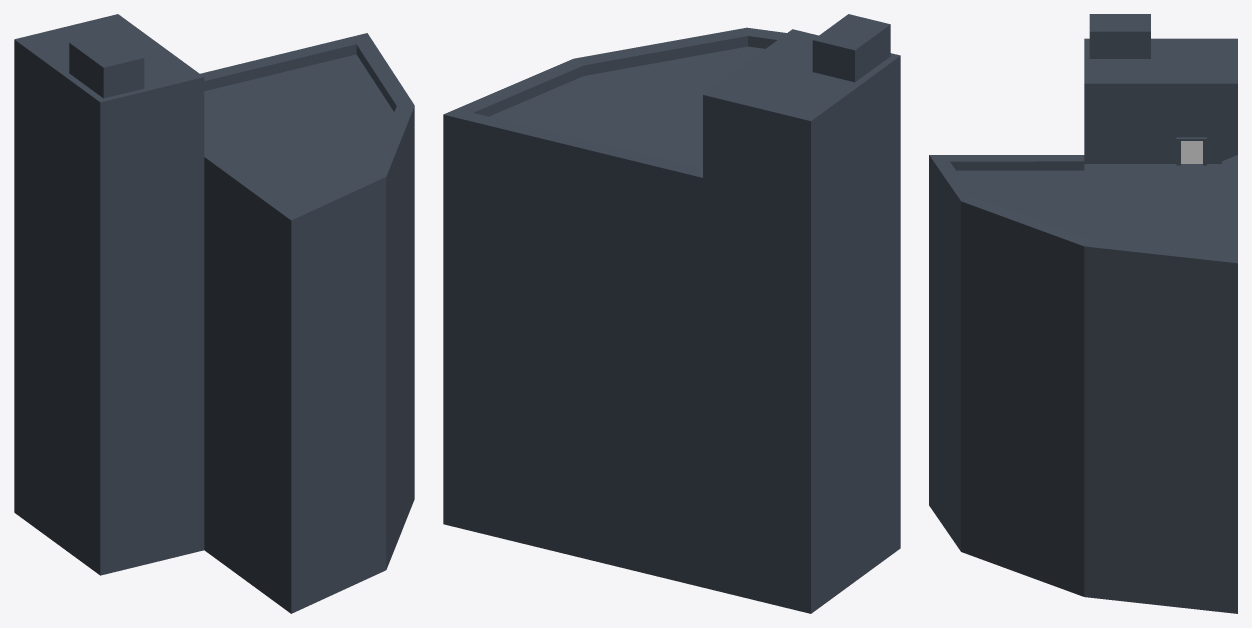
Rendered from 湾曲型ビル.fbx.
3 views of the same model, side by side, from view 1: azimuth 30°, elevation 25°; view 2: azimuth 150°, elevation 25°; view 3: azimuth 270°, elevation 25° (orthographic). The views are drawn at different scales.
Parts seen in each view (by area): view 1: Cube; view 2: Cube; view 3: Cube.
Boxes of the visible parts, x1,y1,x2,y2 form: Cube: [14, 14, 414, 613]; Cube: [443, 14, 900, 613]; Cube: [929, 14, 1237, 613].
Size of the model in its own units: 1405 by 1916 by 1193.
